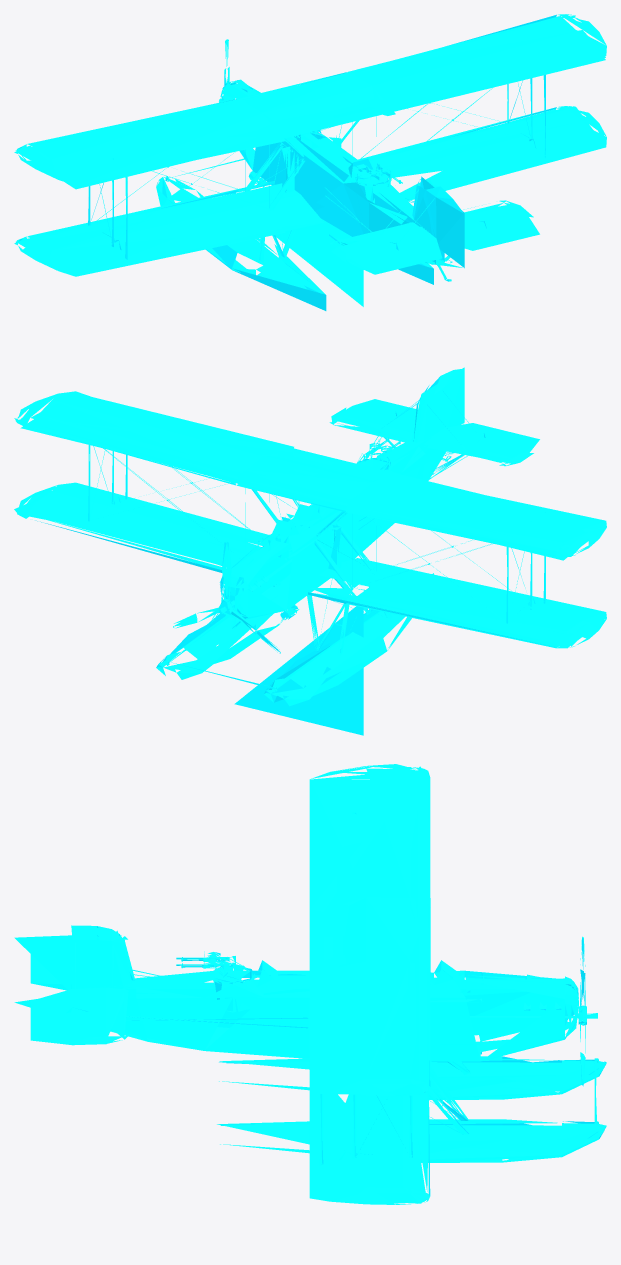
Rendered from PAAB004.glb.
The picture shows the model from 3 angles, top to bottom: view 1: azimuth 30°, elevation 25°; view 2: azimuth 150°, elevation 25°; view 3: azimuth 270°, elevation 25°; orthographic projection. The views are drawn at different scales.
Visible parts, largest first — view 1: misc; view 2: misc; view 3: misc.
Part boxes in pixels (x1,y1,x2,y2): misc: [14, 14, 606, 310]; misc: [14, 367, 606, 735]; misc: [14, 764, 606, 1204].
Bounding box in the file's own units: 1.15 × 0.4695 × 0.8713.
